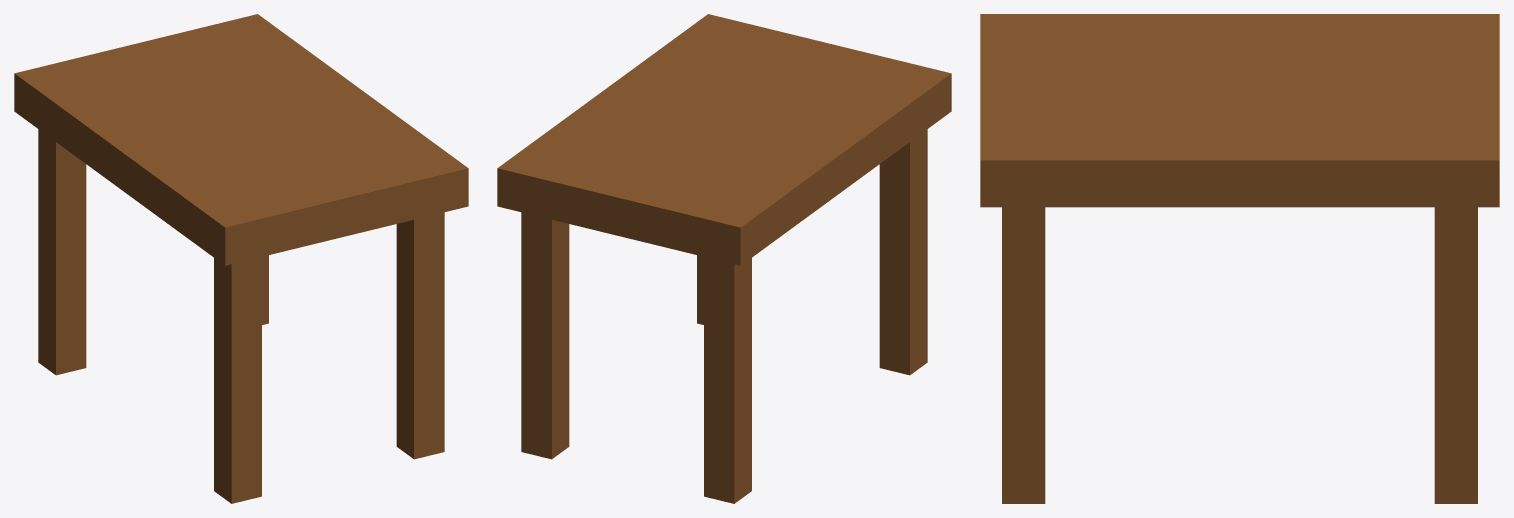
File: pbr-diagnostic.glb
The picture shows the model from 3 angles, left to right: view 1: azimuth 30°, elevation 25°; view 2: azimuth 150°, elevation 25°; view 3: azimuth 270°, elevation 25°; orthographic projection. The views are drawn at different scales.
Size of the model in its own units: 0.8 by 0.9 by 1.2.
1 material, 1 textured.
